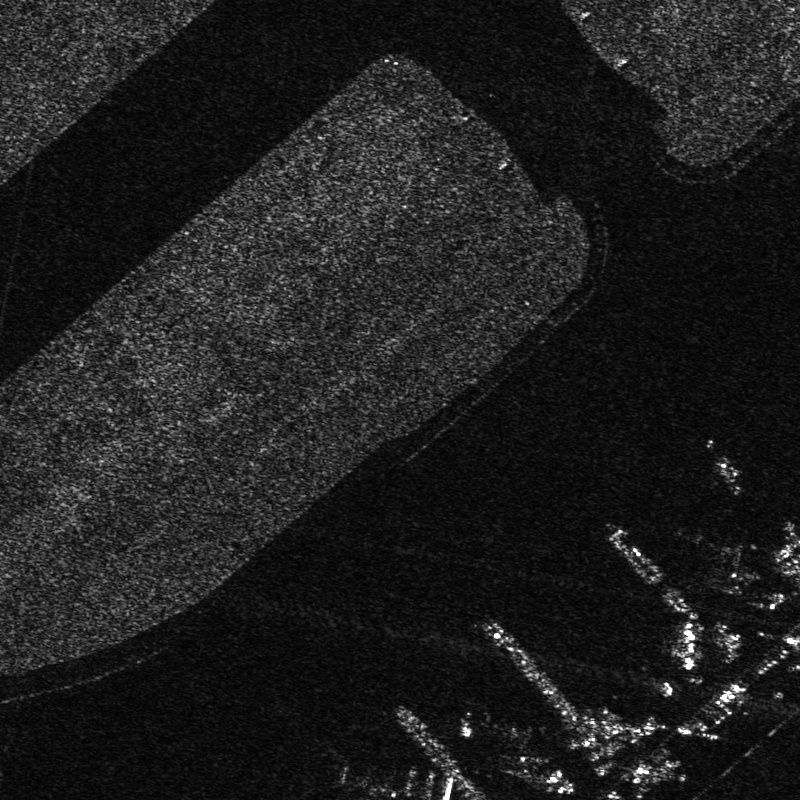Boeing787: (463, 706, 559, 783)
other: (679, 528, 760, 601)
